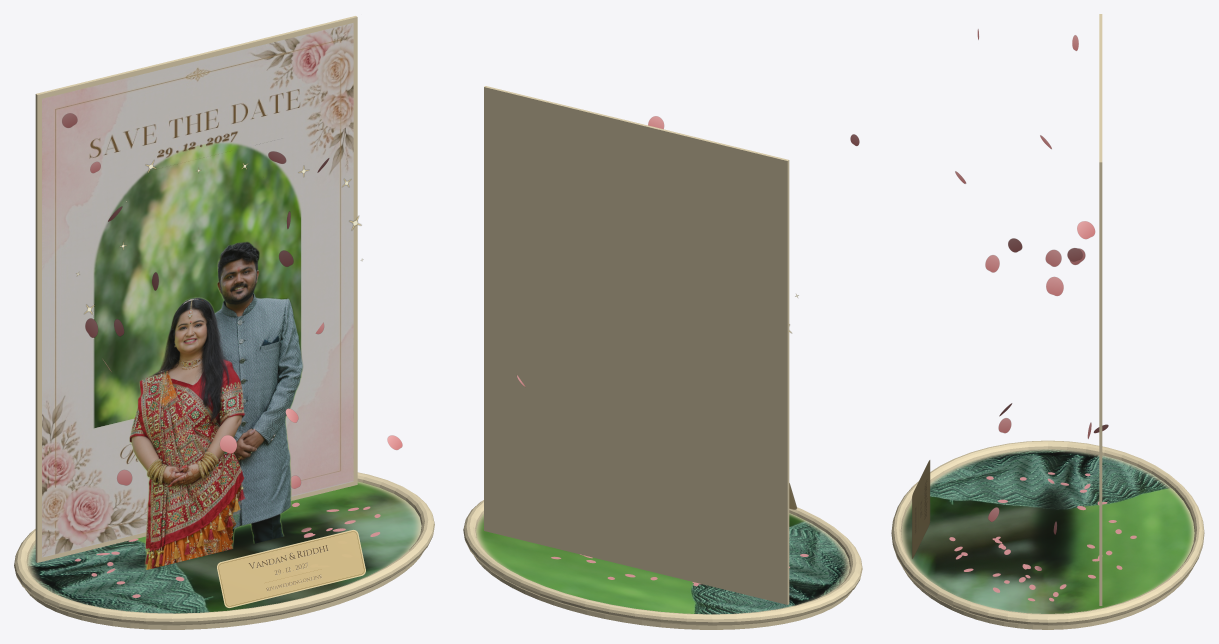
File: vandan_riddhi_stage_3D_AR.glb
The picture shows the model from 3 angles, left to right: view 1: azimuth 30°, elevation 25°; view 2: azimuth 150°, elevation 25°; view 3: azimuth 270°, elevation 25°; orthographic projection. The views are drawn at different scales.
Visible parts, largest first — view 1: Card_Backdrop, Standing_Couple, Ground_Lawn, Arch_Gold_Backing, Gold_Pedestal_Rim, Front_Gold_Plaque, Pedestal_Gold_Base; view 2: Arch_Gold_Backing, Ground_Lawn, Gold_Pedestal_Rim, Pedestal_Gold_Base; view 3: Ground_Lawn, Gold_Pedestal_Rim, Pedestal_Gold_Base, Arch_Gold_Backing, Front_Gold_Plaque.
Boxes of the visible parts, box(x1,y1,x2,y2) form: Card_Backdrop: box(42, 23, 353, 557); Standing_Couple: box(129, 241, 302, 569); Ground_Lawn: box(28, 482, 420, 613); Arch_Gold_Backing: box(35, 16, 357, 562); Gold_Pedestal_Rim: box(14, 472, 434, 625); Front_Gold_Plaque: box(217, 529, 365, 607); Pedestal_Gold_Base: box(25, 481, 423, 629); Arch_Gold_Backing: box(484, 86, 789, 604); Ground_Lawn: box(476, 513, 849, 614); Gold_Pedestal_Rim: box(463, 500, 862, 625); Pedestal_Gold_Base: box(474, 513, 851, 629); Ground_Lawn: box(902, 449, 1194, 613); Gold_Pedestal_Rim: box(891, 440, 1204, 625); Pedestal_Gold_Base: box(901, 449, 1194, 629); Arch_Gold_Backing: box(1099, 14, 1102, 605); Front_Gold_Plaque: box(912, 460, 930, 558).
Size of the model in its own units: 1.34 by 1.76 by 0.9914.
7 materials, 6 textured.
